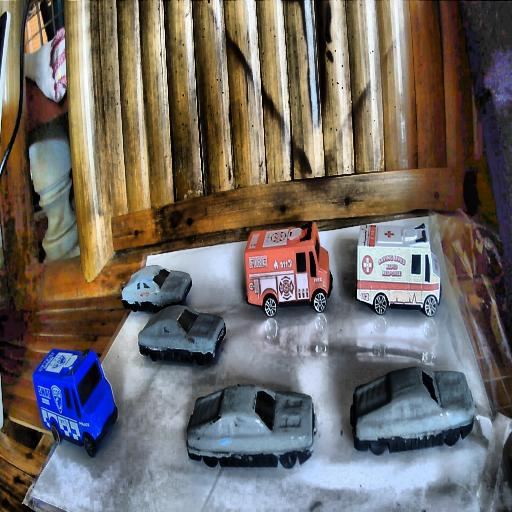ambulance: (355, 218, 443, 320)
fire_truck: (240, 220, 330, 316)
normal_car: (349, 365, 475, 454), (188, 384, 313, 470), (137, 304, 225, 367), (120, 262, 192, 314)
police car: (31, 344, 118, 458)
